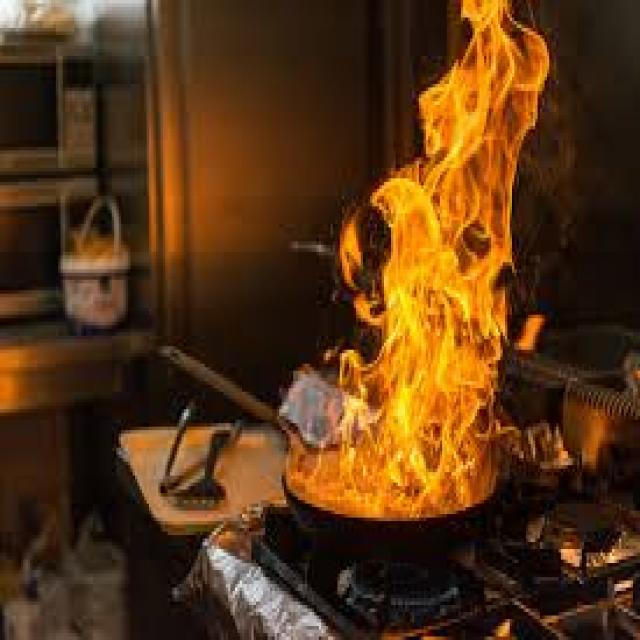fire: (354, 0, 549, 343), (286, 347, 499, 521), (339, 215, 363, 291)
